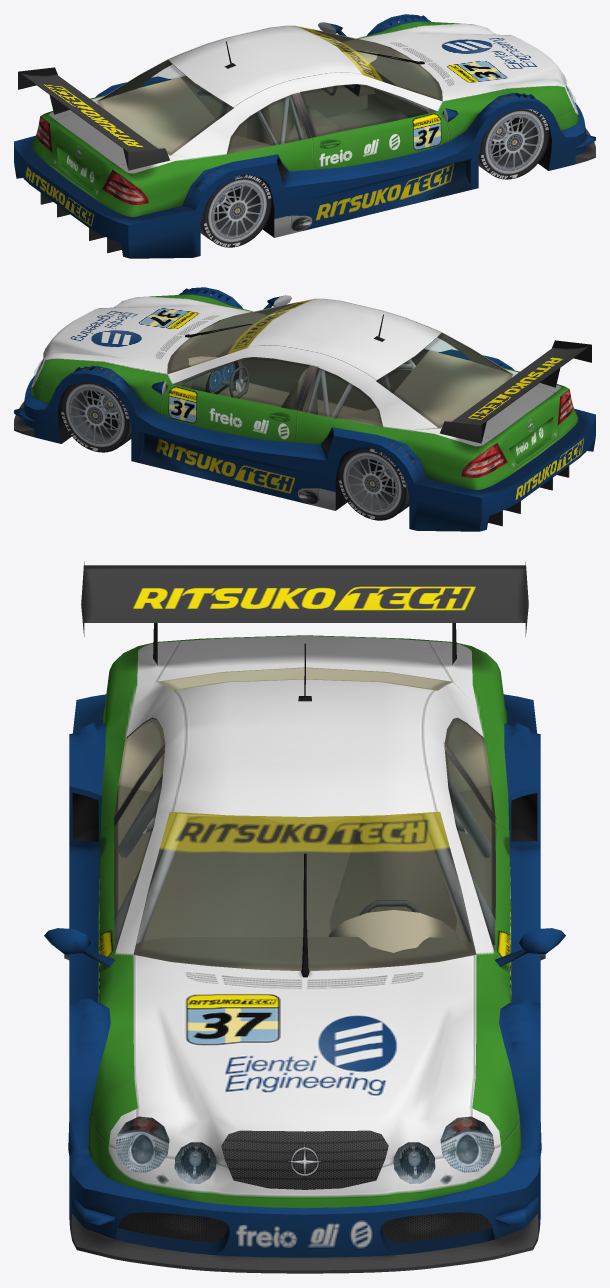
The model's file is sd-trb1-silber-rblk.glb.
3 renders of one model, top to bottom at view 1: azimuth 30°, elevation 25°; view 2: azimuth 150°, elevation 25°; view 3: azimuth 270°, elevation 25°, orthographic. The views are drawn at different scales.
Parts seen in each view (by area): view 1: detail_0, paint_2, gt_cabin_COCKPIT003_s_0_4, glass_1, gt_cabin_COCKPIT_s_0_7, Rim_FrontRight, Rim_RearRight, gt_cabin_COCKPIT001_s_0_6, gt_cabin_SEAT_s_2_3, Tire_RearRight, Tire_FrontRight, gt_cabin_COCKPIT002_s_0_5; view 2: detail_0, paint_2, gt_cabin_COCKPIT003_s_0_4, glass_1, gt_cabin_COCKPIT_s_0_7, Rim_RearLeft, Rim_FrontLeft, gt_cabin_COCKPIT001_s_0_6, Tire_RearLeft, Tire_FrontLeft, gt_cabin_SEAT_s_2_3, gt_cabin_COCKPIT002_s_0_5; view 3: detail_0, paint_2, gt_cabin_COCKPIT_s_0_7, glass_1, gt_cabin_SEAT_s_2_3, gt_cabin_COCKPIT001_s_0_6, gt_cabin_COCKPIT003_s_0_4.
Boxes of the visible parts, bbox=[...] form: detail_0: bbox=[31, 21, 578, 253]; paint_2: bbox=[14, 14, 595, 258]; gt_cabin_COCKPIT003_s_0_4: bbox=[97, 77, 272, 155]; glass_1: bbox=[97, 26, 576, 154]; gt_cabin_COCKPIT_s_0_7: bbox=[181, 76, 408, 137]; Rim_FrontRight: bbox=[480, 94, 549, 179]; Rim_RearRight: bbox=[203, 174, 271, 247]; gt_cabin_COCKPIT001_s_0_6: bbox=[339, 39, 442, 113]; gt_cabin_SEAT_s_2_3: bbox=[246, 99, 338, 145]; Tire_RearRight: bbox=[194, 169, 260, 240]; Tire_FrontRight: bbox=[478, 95, 537, 173]; gt_cabin_COCKPIT002_s_0_5: bbox=[337, 47, 428, 117]; detail_0: bbox=[31, 294, 578, 526]; paint_2: bbox=[14, 287, 595, 531]; gt_cabin_COCKPIT003_s_0_4: bbox=[337, 350, 512, 428]; glass_1: bbox=[33, 299, 512, 427]; gt_cabin_COCKPIT_s_0_7: bbox=[218, 349, 428, 418]; Rim_RearLeft: bbox=[338, 447, 406, 520]; Rim_FrontLeft: bbox=[60, 367, 129, 452]; gt_cabin_COCKPIT001_s_0_6: bbox=[167, 312, 270, 386]; Tire_RearLeft: bbox=[349, 442, 415, 513]; Tire_FrontLeft: bbox=[72, 368, 131, 446]; gt_cabin_SEAT_s_2_3: bbox=[281, 367, 317, 414]; gt_cabin_COCKPIT002_s_0_5: bbox=[181, 320, 272, 388]; detail_0: bbox=[44, 635, 565, 1208]; paint_2: bbox=[68, 561, 541, 1273]; gt_cabin_COCKPIT_s_0_7: bbox=[114, 785, 495, 940]; glass_1: bbox=[114, 667, 495, 970]; gt_cabin_SEAT_s_2_3: bbox=[329, 816, 456, 931]; gt_cabin_COCKPIT001_s_0_6: bbox=[114, 937, 495, 970]; gt_cabin_COCKPIT003_s_0_4: bbox=[118, 667, 491, 827].
Size of the model in its own units: 4.79 by 1.37 by 2.15.
Materials: 6 (5 with a texture image).
